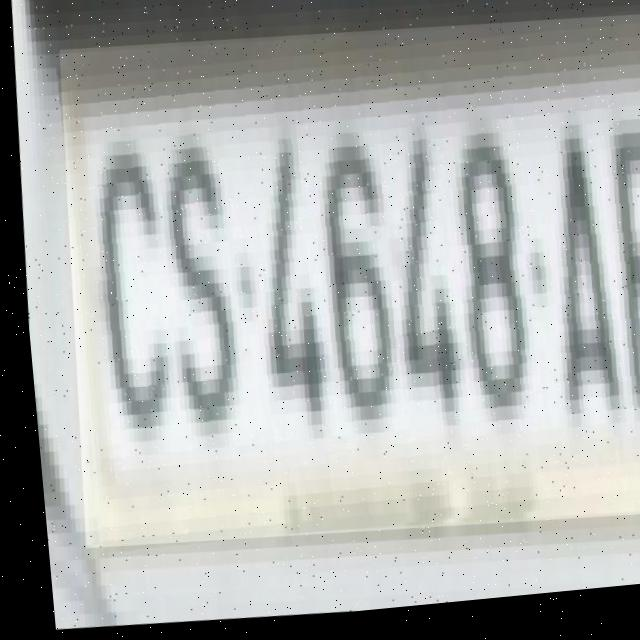LicensePlate: (40, 7, 640, 569)
